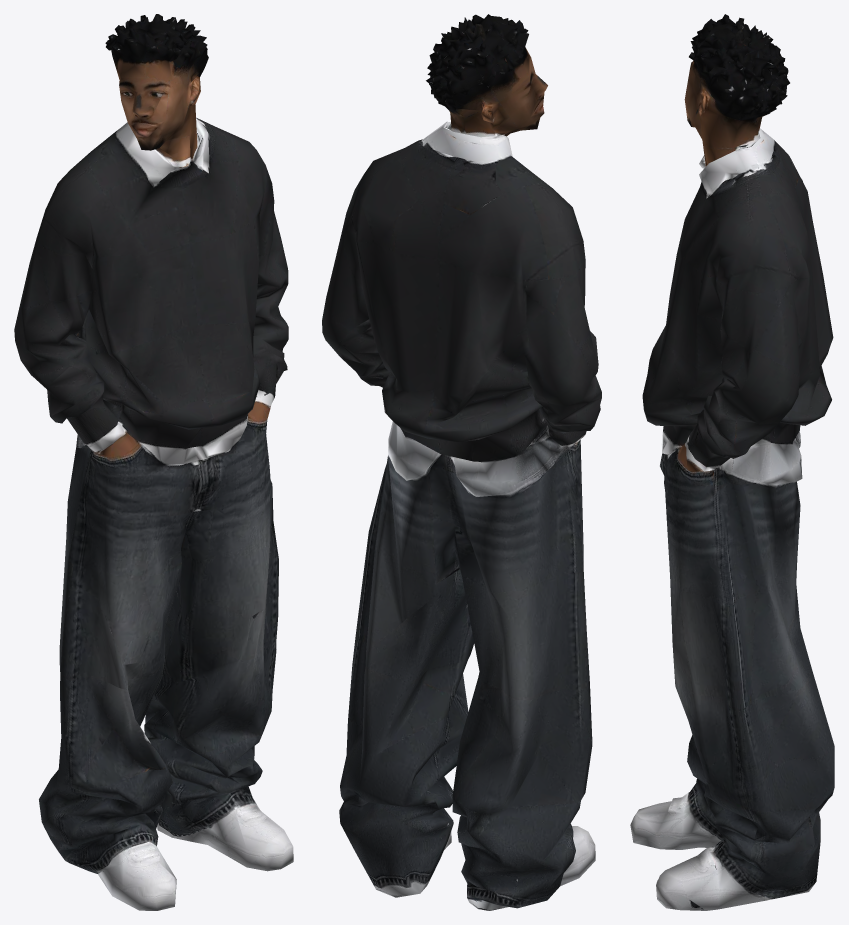
The model's file is personnage1.glb.
3 renders of one model, left to right at view 1: azimuth 30°, elevation 25°; view 2: azimuth 150°, elevation 25°; view 3: azimuth 270°, elevation 25°, orthographic. The views are drawn at different scales.
Bounding box in the file's own units: 0.6082 × 1.9 × 0.4229.
1 material, 1 textured.
